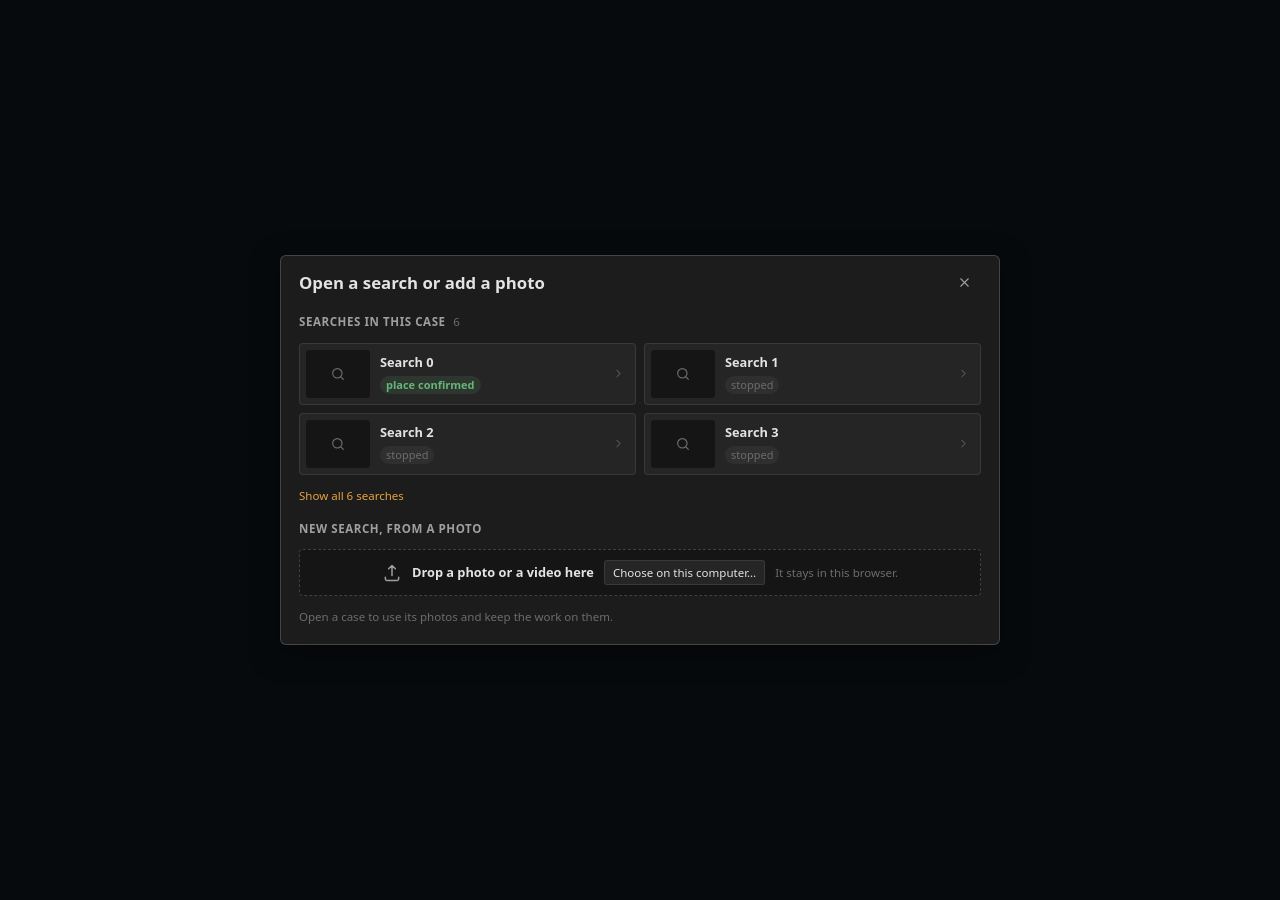
Scenario: the photo dialog › shows four searches, the rest behind Show all, and says a confirmed place first
This screenshot has width=1280, height=900.
Expected: the number of buttons with class "search" is 4, [299, 343, 636, 405]; [644, 343, 981, 405]; [299, 413, 636, 475]; [644, 413, 981, 475]
Expected: the text with class "search-end" reads "place confirmed", [386, 377, 474, 392]
Click the button with class "more" at (351, 495), box [299, 487, 404, 504]
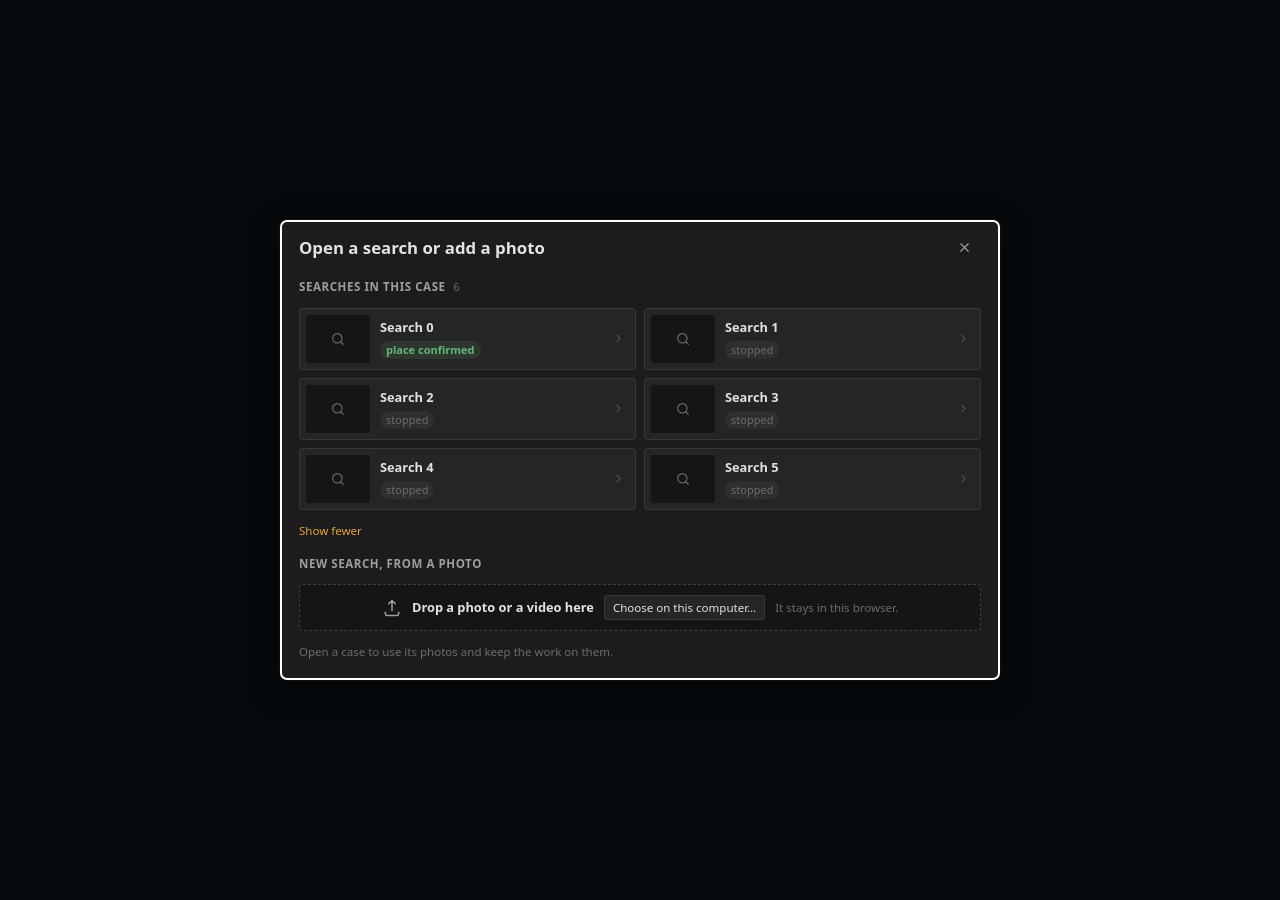
Expected: the number of buttons with class "search" is 6, [299, 308, 636, 370]; [644, 308, 981, 370]; [299, 378, 636, 440]; [644, 378, 981, 440]; [299, 448, 636, 510]; [644, 448, 981, 510]
